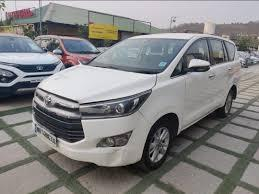non-ambulance: (33, 34, 239, 168), (0, 34, 63, 96), (35, 35, 99, 66)
